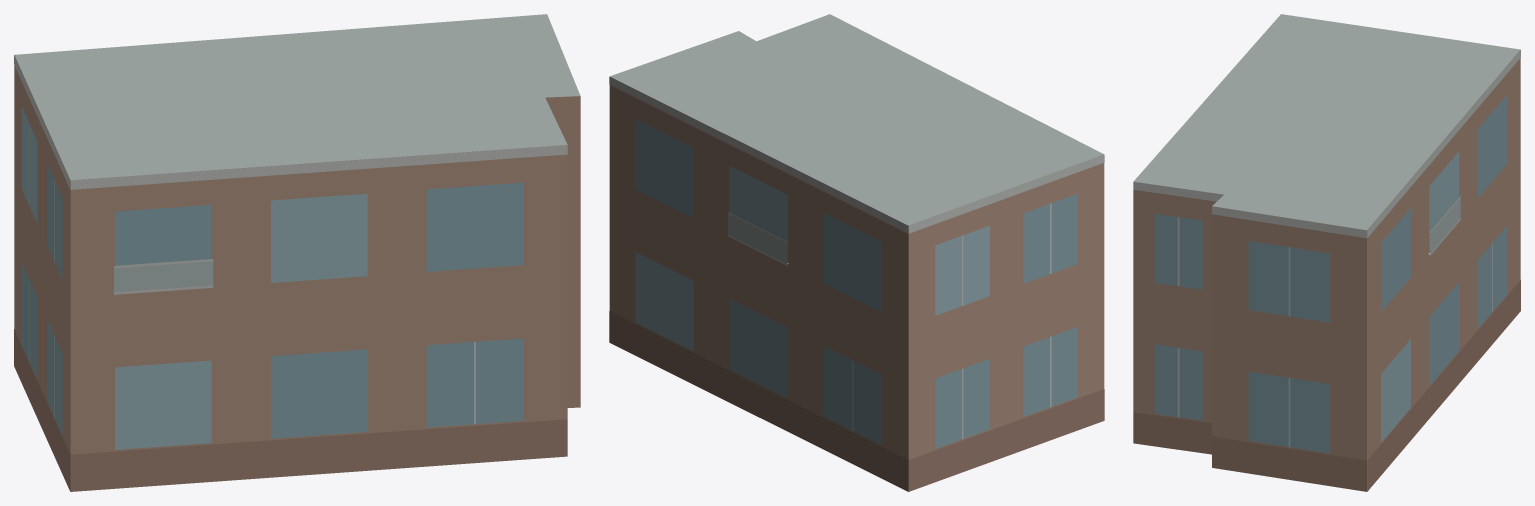
File: survey-upis-32769356.glb
The picture shows the model from 3 angles, left to right: view 1: azimuth 30°, elevation 25°; view 2: azimuth 150°, elevation 25°; view 3: azimuth 270°, elevation 25°; orthographic projection. The views are drawn at different scales.
Visible parts, largest first — view 1: survey-upis-32769356.tmp; view 2: survey-upis-32769356.tmp; view 3: survey-upis-32769356.tmp.
Part boxes in pixels (<box>): survey-upis-32769356.tmp: <box>14,14,580,491</box>; survey-upis-32769356.tmp: <box>609,14,1104,491</box>; survey-upis-32769356.tmp: <box>1133,14,1520,491</box>.
Bounding box in the file's own units: 14.11 × 7.95 × 10.68.
